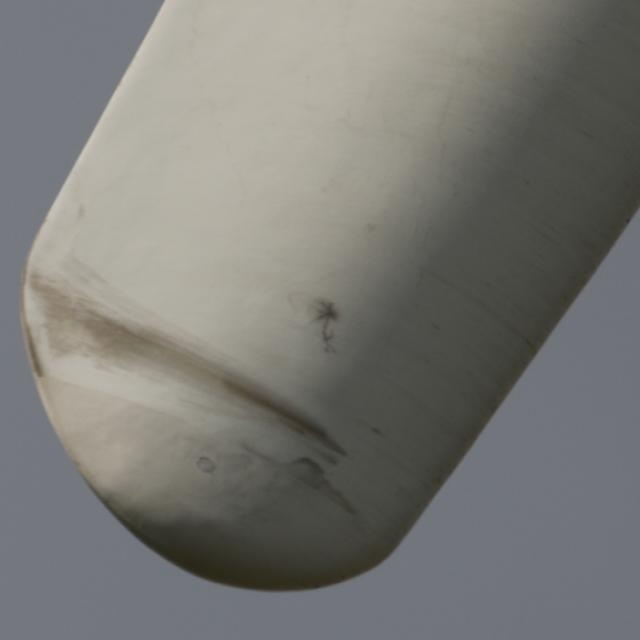Coating_defects: (271, 456, 343, 518)
Crack: (298, 296, 349, 359)
